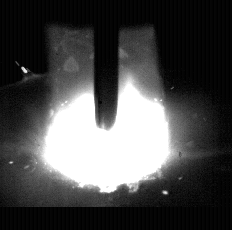arame: (94, 0, 120, 130)
poca: (45, 0, 171, 230)
